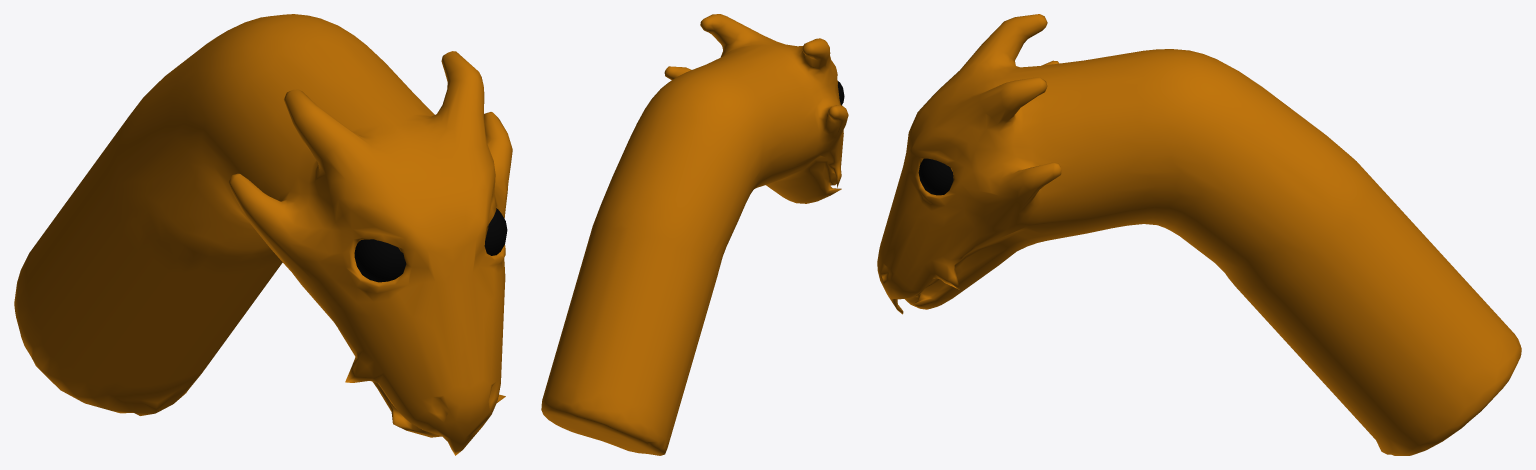
File: lowpoly_dragon.fbx
3 views of the same model, side by side, from view 1: azimuth 30°, elevation 25°; view 2: azimuth 150°, elevation 25°; view 3: azimuth 270°, elevation 25° (orthographic). The views are drawn at different scales.
Visible parts, largest first — view 1: dragon, Sphere.001, Sphere.002; view 2: dragon; view 3: dragon, Sphere.002.
Part boxes in pixels (box(x1,y1,x2,y2)): dragon: box(14, 14, 512, 455); Sphere.001: box(354, 239, 406, 282); Sphere.002: box(484, 208, 507, 255); dragon: box(541, 14, 848, 455); dragon: box(877, 14, 1521, 455); Sphere.002: box(918, 158, 953, 195).
Bounding box in the file's own units: 548 × 963 × 1380.
